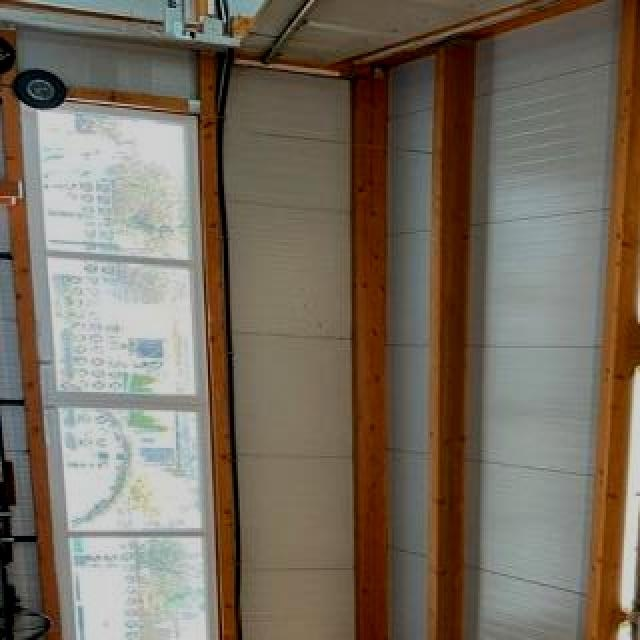fluorescent tube: (606, 18, 640, 334), (602, 350, 640, 618), (588, 612, 640, 640)
